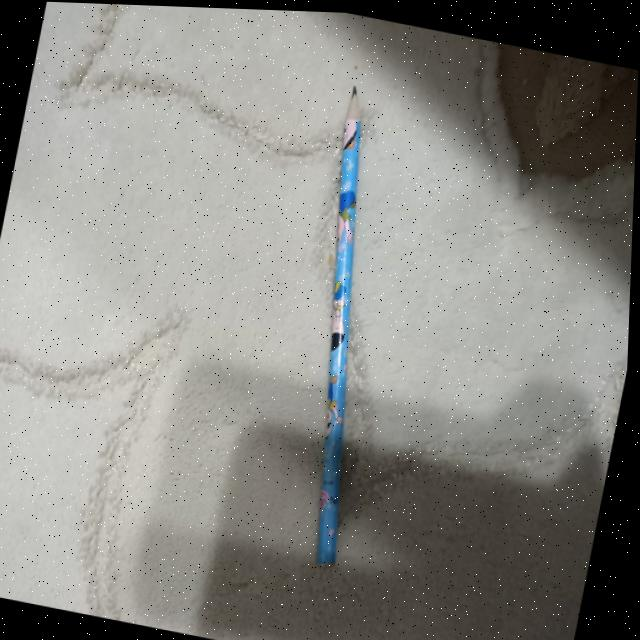pencil: (322, 84, 362, 562)
